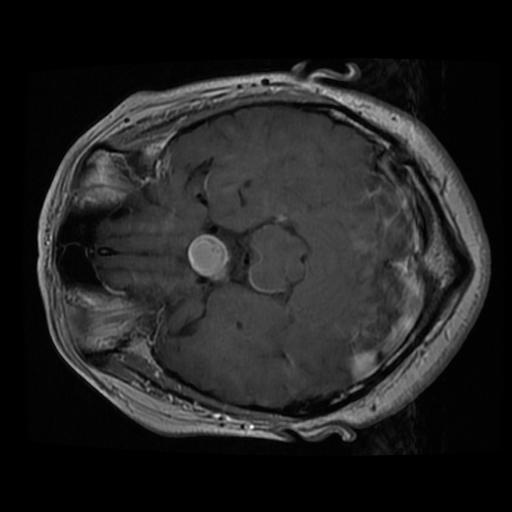pituitary tumour: (188, 234, 229, 278)
